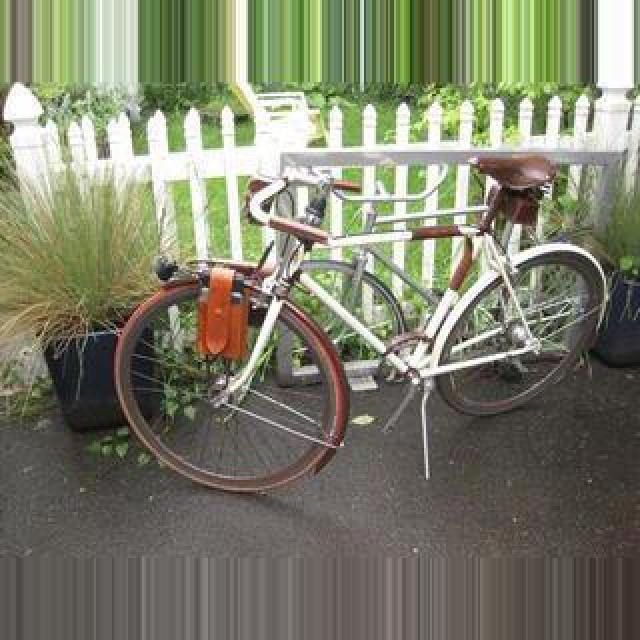Person: (104, 162, 614, 500)
